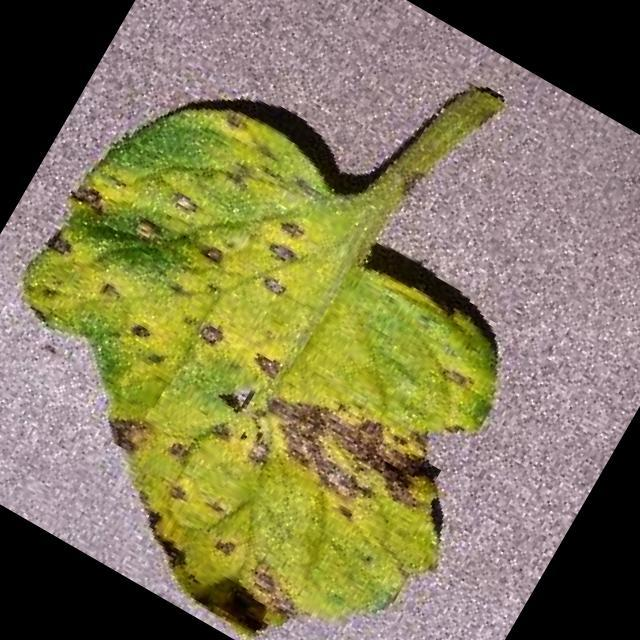Tomato Septoria spot leaf: (0, 52, 582, 640)
